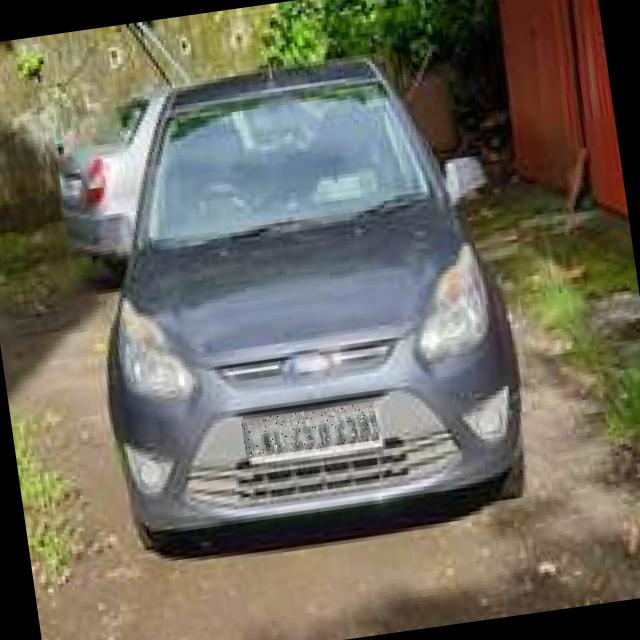Plate: (242, 403, 380, 460)
